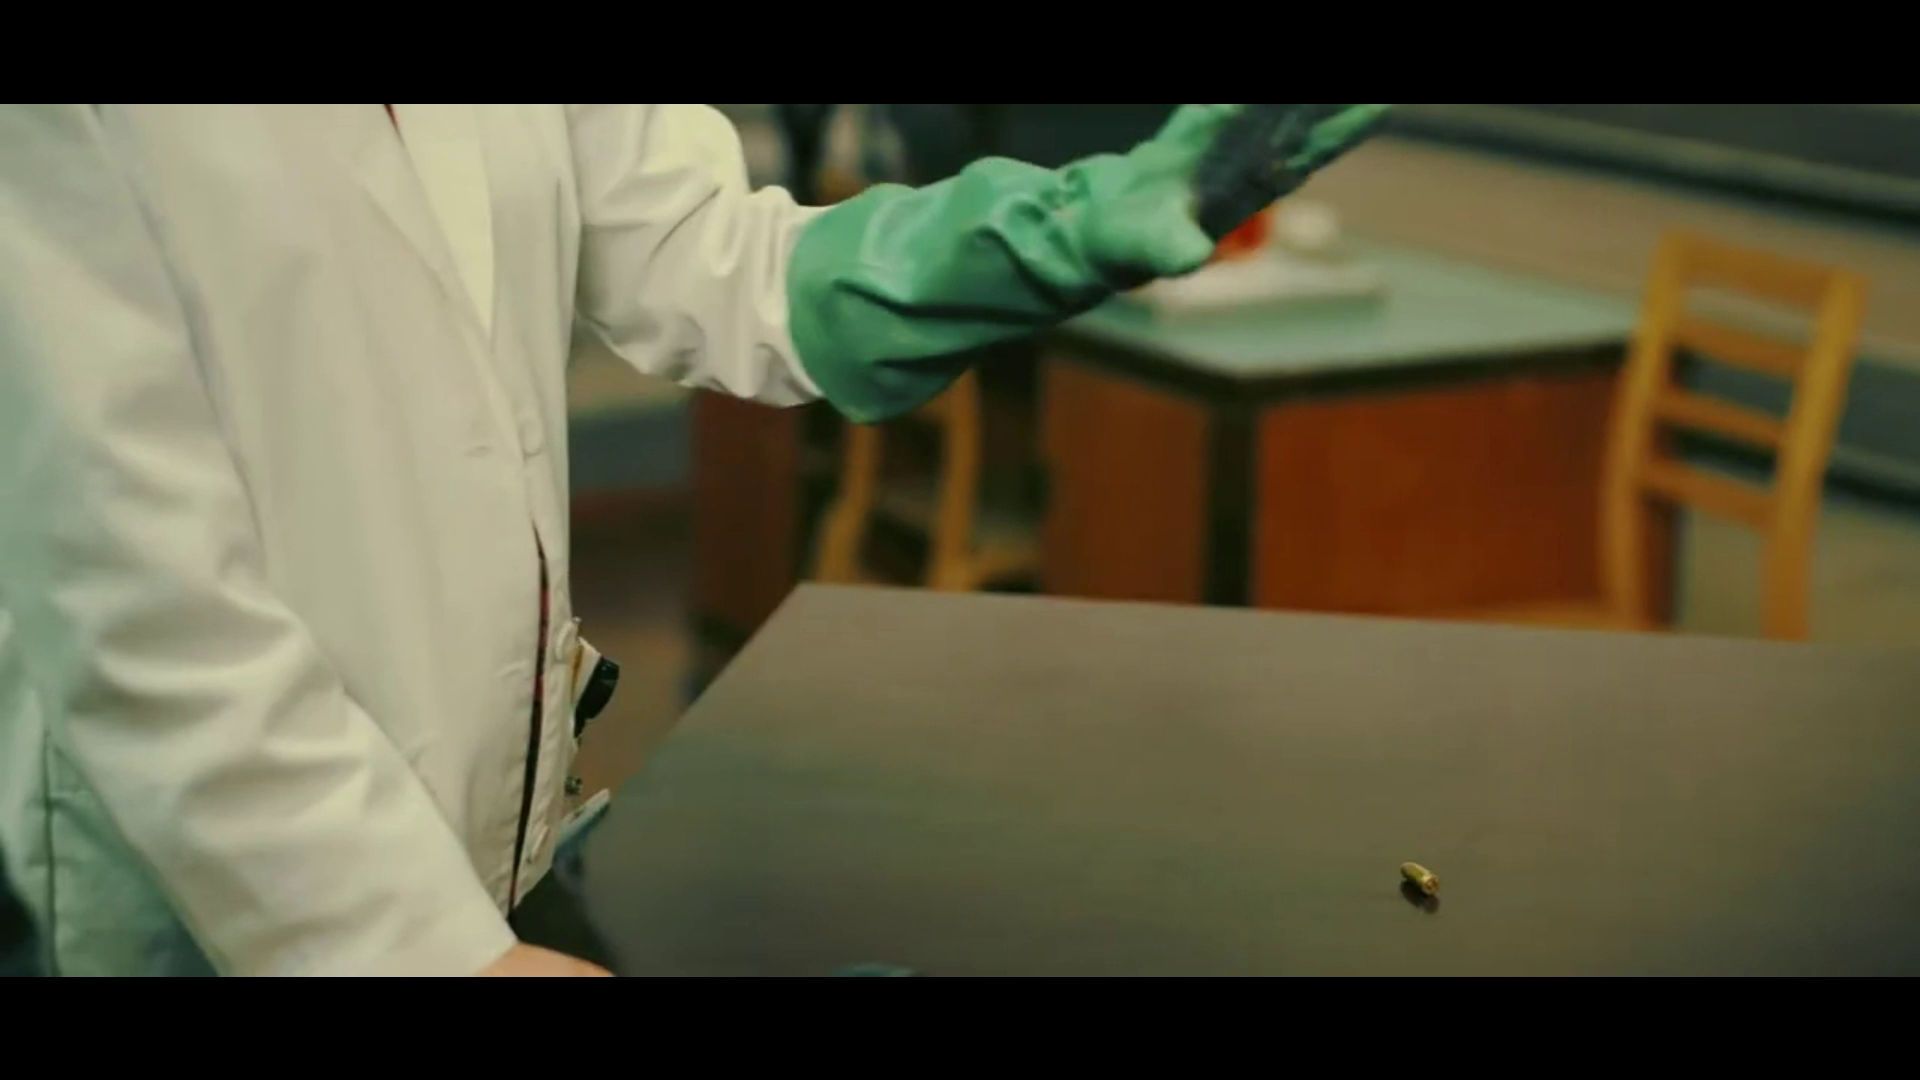Bullet: (1395, 858, 1441, 895)
